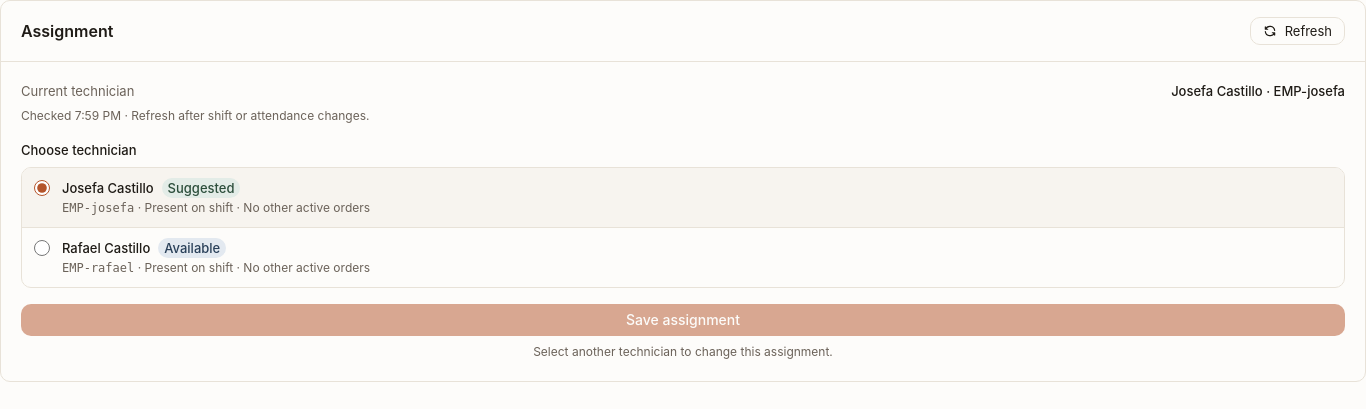
refreshes availability before assignment and shows the new blocking reason
Click the radio button labelled "Rafael Castillo". click: x=42, y=248
box: [34,240,50,256]
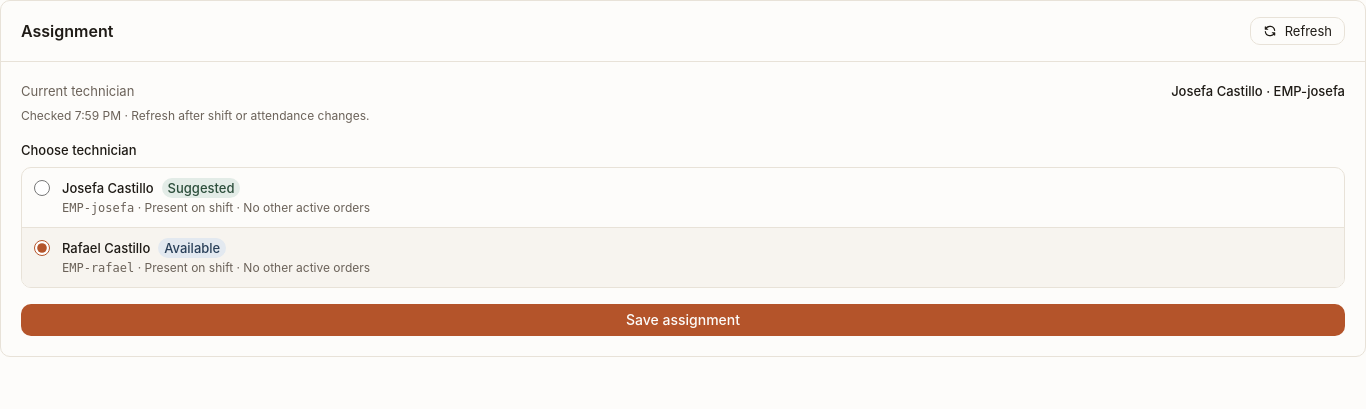
Click the button "Save assignment". click: x=683, y=320
box: [21,304,1345,336]
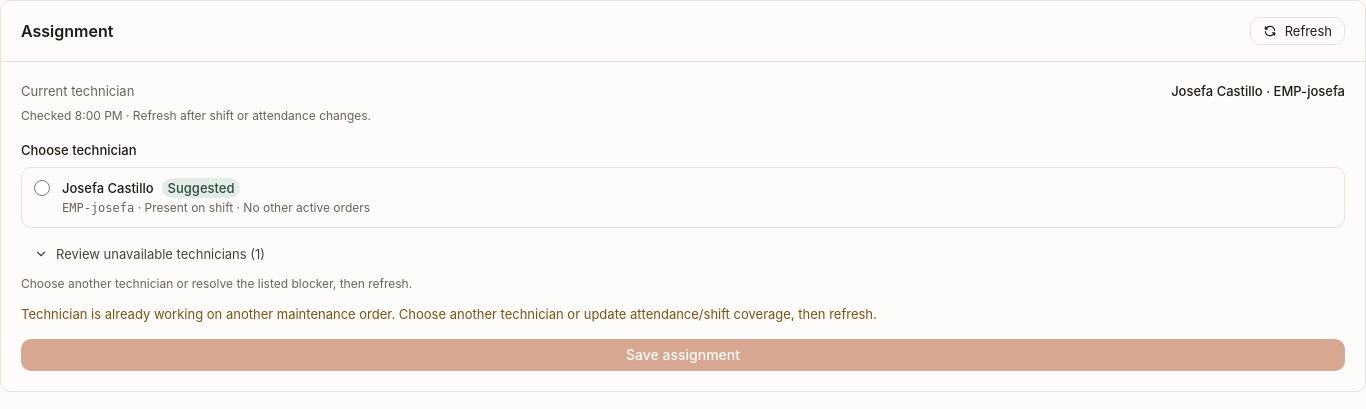
Check: the message shows "Technician is already working on another maintenance order. Choose another technician or update attendance/shift coverage, then refresh.", box [21,306,877,322]
